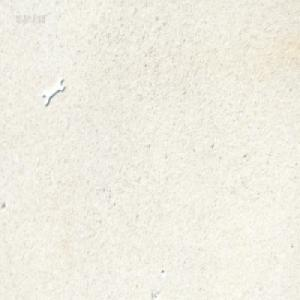Wrench: (42, 75, 65, 107)
